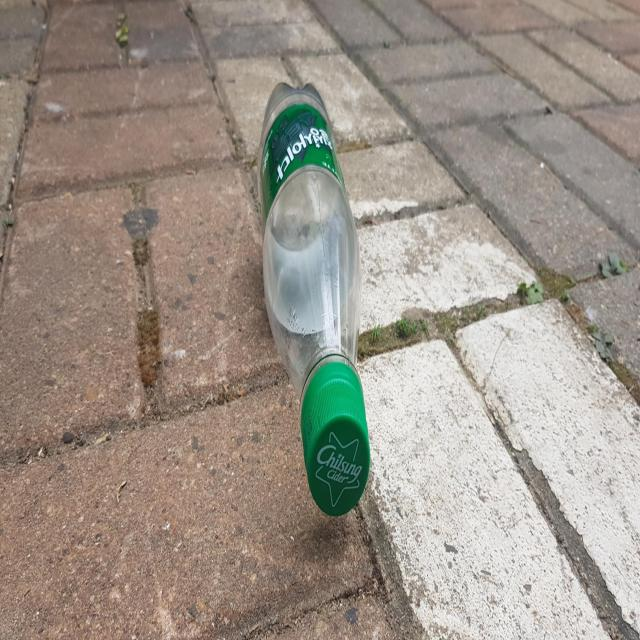plastic: (258, 81, 371, 516)
